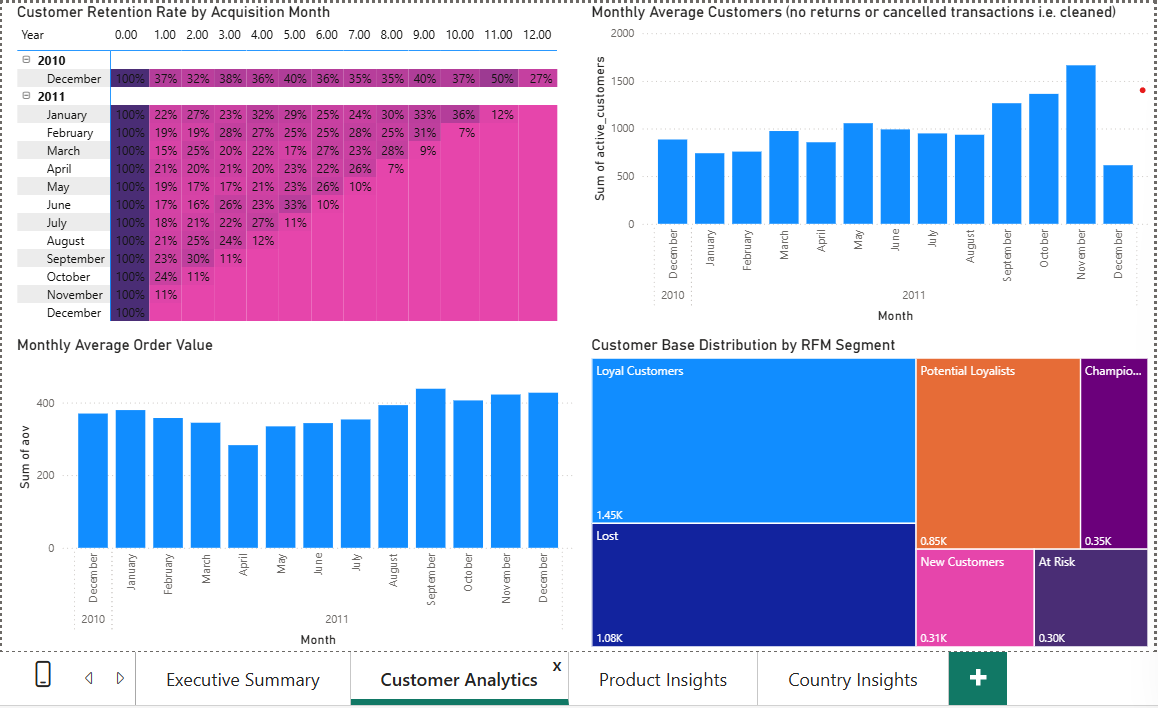

The dashboard page shown, as its layout file describes it:
{"tool":"powerbi","page":{"name":"Customer Analytics","canvas":[1280,720],"ordinal":1},"visuals":[{"type":"pivotTable","title":"Customer Retention Rate by Acquisition Month","fields":{"Values":["Avg(public cohort_retention.retention_rate)"],"Rows":["public cohort_retention.cohort_month.Variation.Date Hierarchy.Year","public cohort_retention.cohort_month.Variation.Date Hierarchy.Month"],"Columns":["public cohort_retention.cohort_index"]},"box":[11.7,0,628.3,360],"z":0},{"type":"clusteredColumnChart","title":"Monthly Average Order Value","fields":{"Y":["Sum(Monthly AOV (Average Order Value).aov)"],"Category":["Monthly AOV (Average Order Value).month.Variation.Date Hierarchy.Year","Monthly AOV (Average Order Value).month.Variation.Date Hierarchy.Month"]},"box":[12,370,628,350],"z":1000},{"type":"clusteredColumnChart","title":"Monthly Average Customers (no returns or cancelled transactions i.e. cleaned)","fields":{"Y":["Sum(Monthly Average Customers (cleaned).active_customers)"],"Category":["Monthly Average Customers (cleaned).month.Variation.Date Hierarchy.Year","Monthly Average Customers (cleaned).month.Variation.Date Hierarchy.Month"]},"box":[650,0,628,360],"z":2000},{"type":"treemap","title":"Customer Base Distribution by RFM Segment","fields":{"Group":["public v_rfm_segmentation.customer_segment"],"Values":["CountNonNull(public v_rfm_segmentation.customerid)"]},"box":[650,370,628,350],"z":3000}]}

Visuals, with their boxes on the page's 1280x720 design canvas (x1, y1, x2, y2). These are canvas units, not pixel positions in the 1158x708 screenshot, which may show the page scaled, cropped or inside an application window:
"Customer Retention Rate by Acquisition Month" pivotTable: 12, 0, 640, 360
"Monthly Average Order Value" clusteredColumnChart: 12, 370, 640, 720
"Monthly Average Customers (no returns or cancelled transactions i.e. cleaned)" clusteredColumnChart: 650, 0, 1278, 360
"Customer Base Distribution by RFM Segment" treemap: 650, 370, 1278, 720
